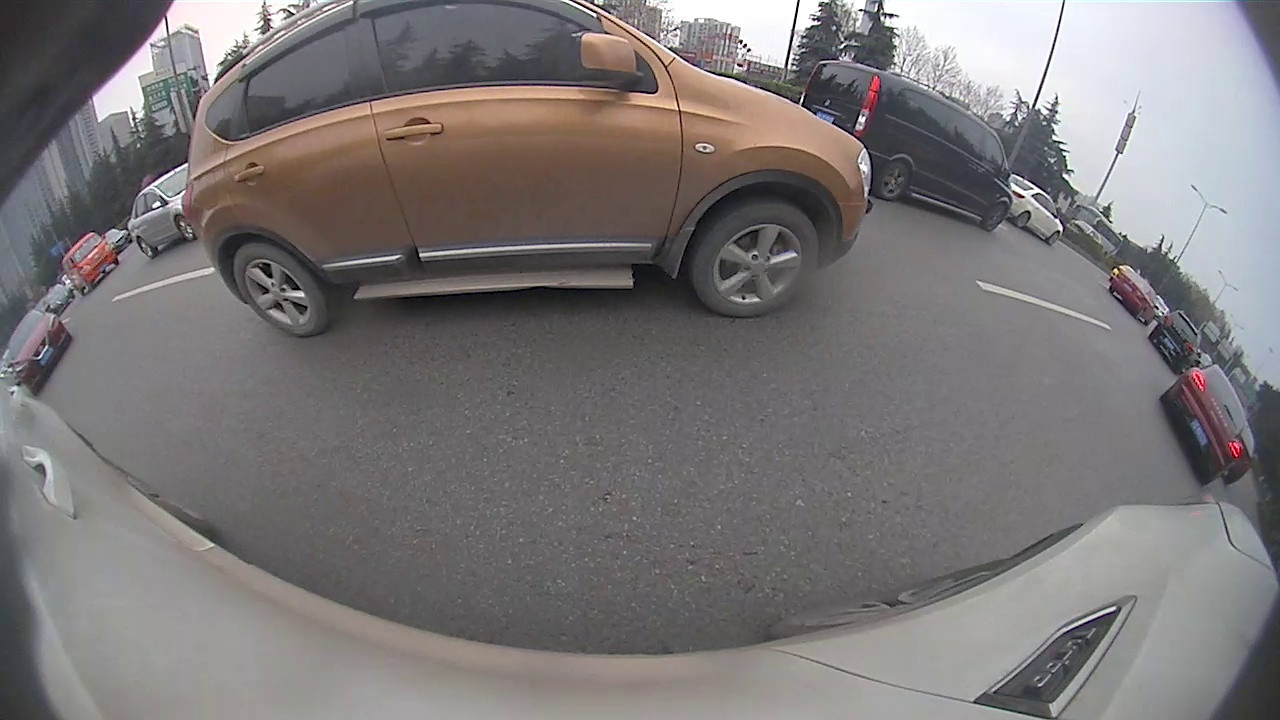car: (181, 1, 873, 338), (800, 59, 1014, 233), (1160, 362, 1248, 485), (129, 164, 199, 259), (5, 310, 73, 397), (1003, 174, 1066, 245), (59, 232, 121, 295), (1151, 307, 1201, 375), (1068, 203, 1126, 259), (1107, 264, 1158, 327)
front: (689, 200, 819, 318), (981, 202, 1007, 234), (174, 217, 198, 243), (1048, 229, 1061, 247)
rear: (232, 241, 330, 339), (875, 162, 911, 202), (139, 239, 155, 260), (1015, 210, 1031, 230)
